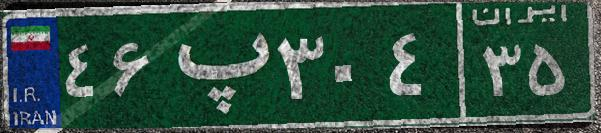0: (330, 28, 385, 110)
3: (273, 28, 330, 110), (475, 38, 525, 113)
4: (385, 28, 445, 110), (57, 26, 110, 107)
5: (525, 38, 570, 115)
6: (110, 28, 158, 105)
پ: (158, 15, 273, 115)
